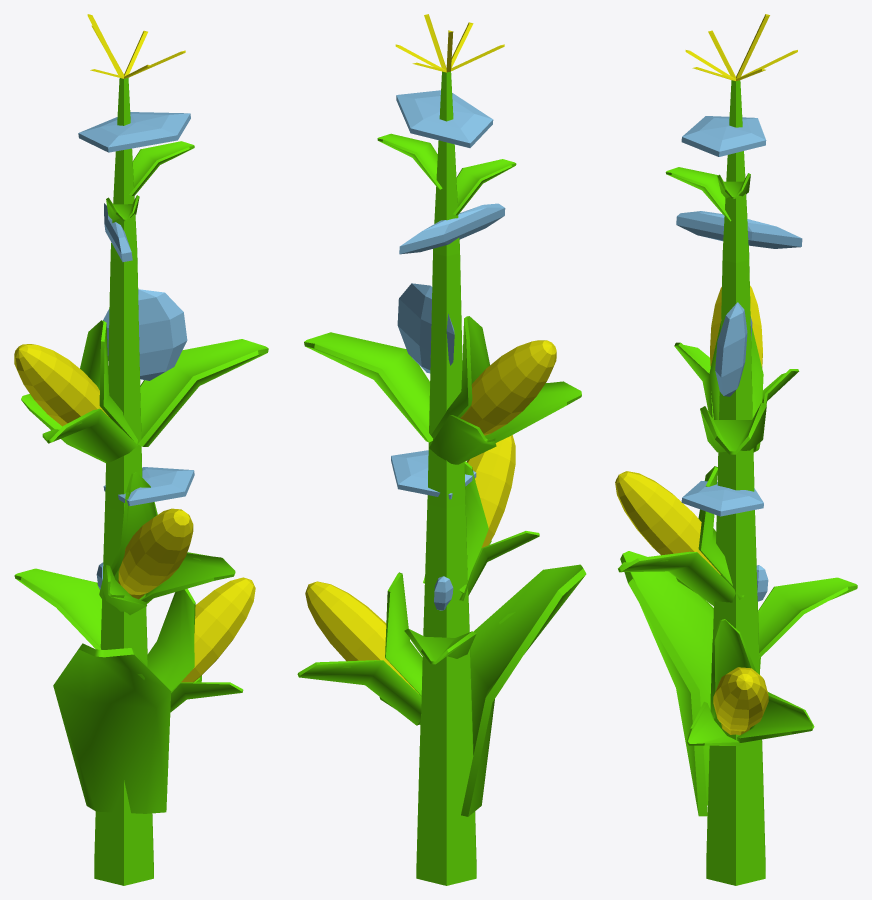
File: Blighted_Corn_Stage_2.fbx
3 views of the same model, side by side, from view 1: azimuth 30°, elevation 25°; view 2: azimuth 150°, elevation 25°; view 3: azimuth 270°, elevation 25° (orthographic).
Visible parts, largest first — view 1: Blighted_Corn_Stage_2; view 2: Blighted_Corn_Stage_2; view 3: Blighted_Corn_Stage_2.
Part boxes in pixels (x1=…): Blighted_Corn_Stage_2: x1=14, y1=14, x2=268, y2=885; Blighted_Corn_Stage_2: x1=297, y1=14, x2=586, y2=885; Blighted_Corn_Stage_2: x1=615, y1=14, x2=857, y2=885.
Bounding box in the file's own units: 0.7638 × 2.48 × 0.6449.
